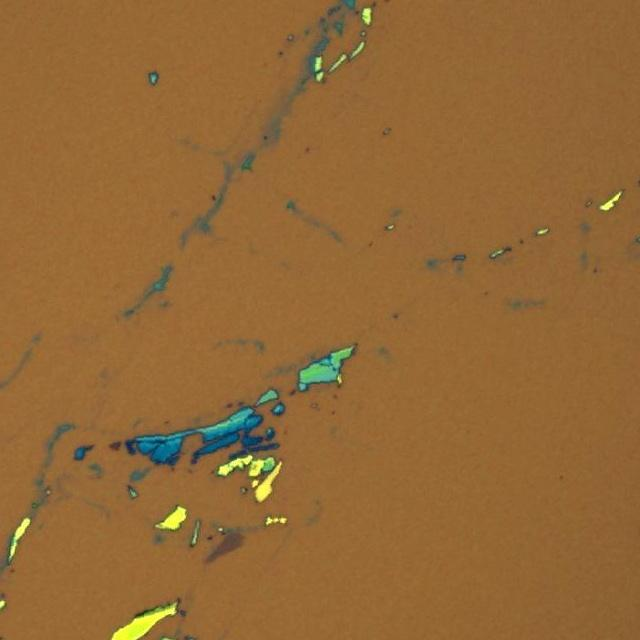monolayer-eWW4: (203, 530, 246, 566)
